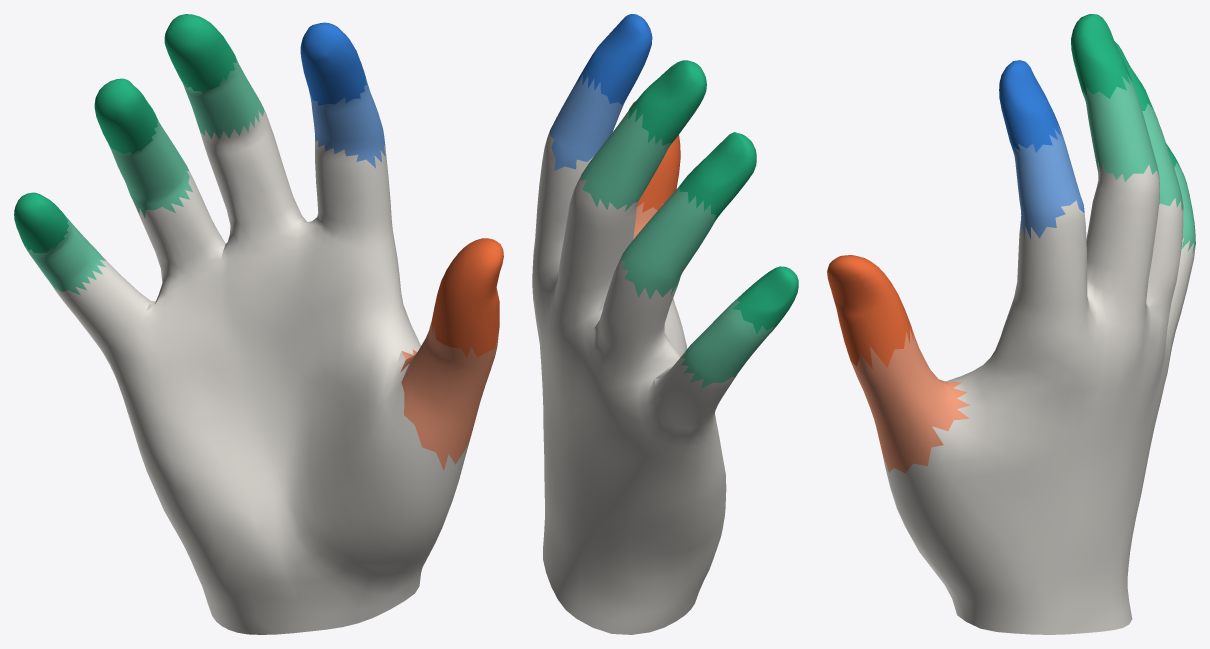
The model's file is dex3_human.glb.
3 views of the same model, side by side, from view 1: azimuth 30°, elevation 25°; view 2: azimuth 150°, elevation 25°; view 3: azimuth 270°, elevation 25° (orthographic). The views are drawn at different scales.
Parts seen in each view (by area): view 1: hand; view 2: hand; view 3: hand.
Part boxes in pixels (x1,y1,x2,y2): hand: [14, 14, 503, 634]; hand: [532, 14, 798, 634]; hand: [827, 14, 1195, 634].
Bounding box in the file's own units: 0.1078 × 0.1843 × 0.1079.
